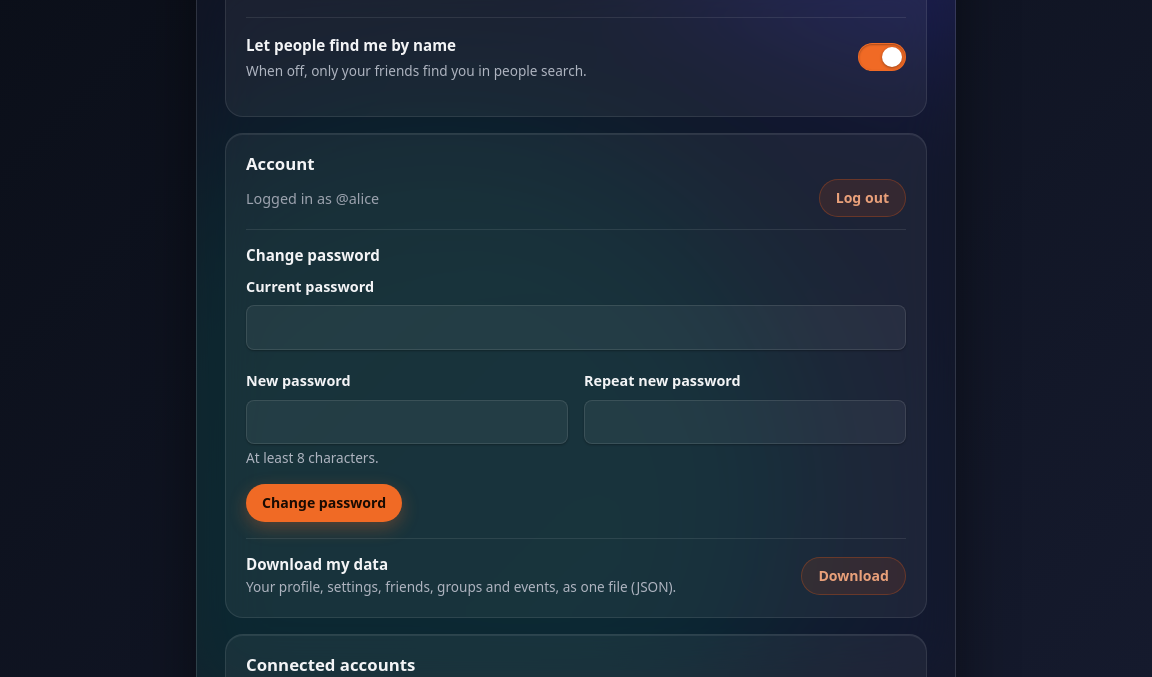
Test case: a wrong current password shows the server reason
(page scrolled)
In the password field labelled "Current password": (576, 328) [246,305,906,350], type "nope"
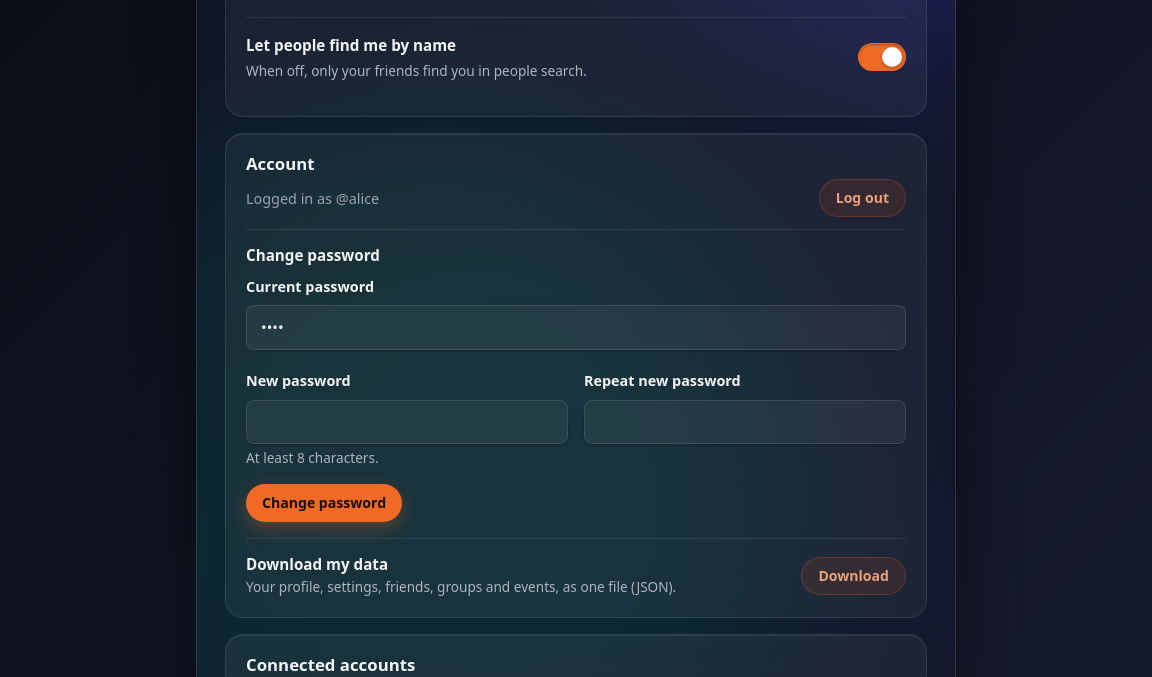
In the password field labelled "New password": (407, 422) [246,400,568,444], type "new-password-1"
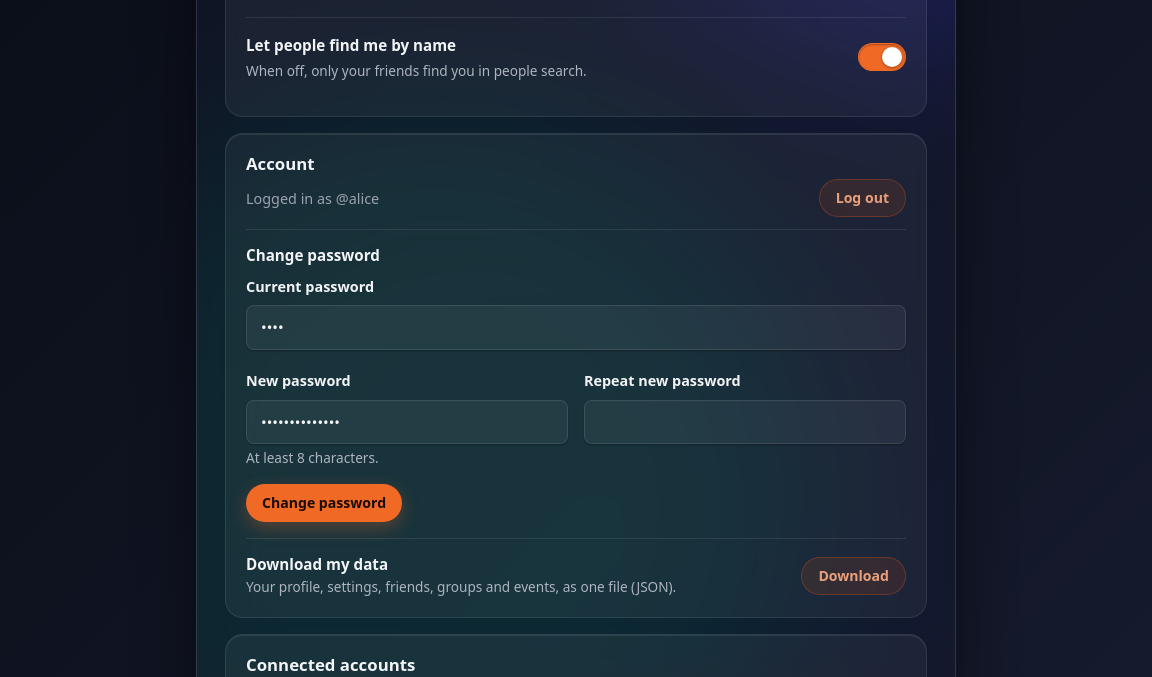
In the password field labelled "Repeat new password": (745, 422) [584,400,906,444], type "new-password-1"
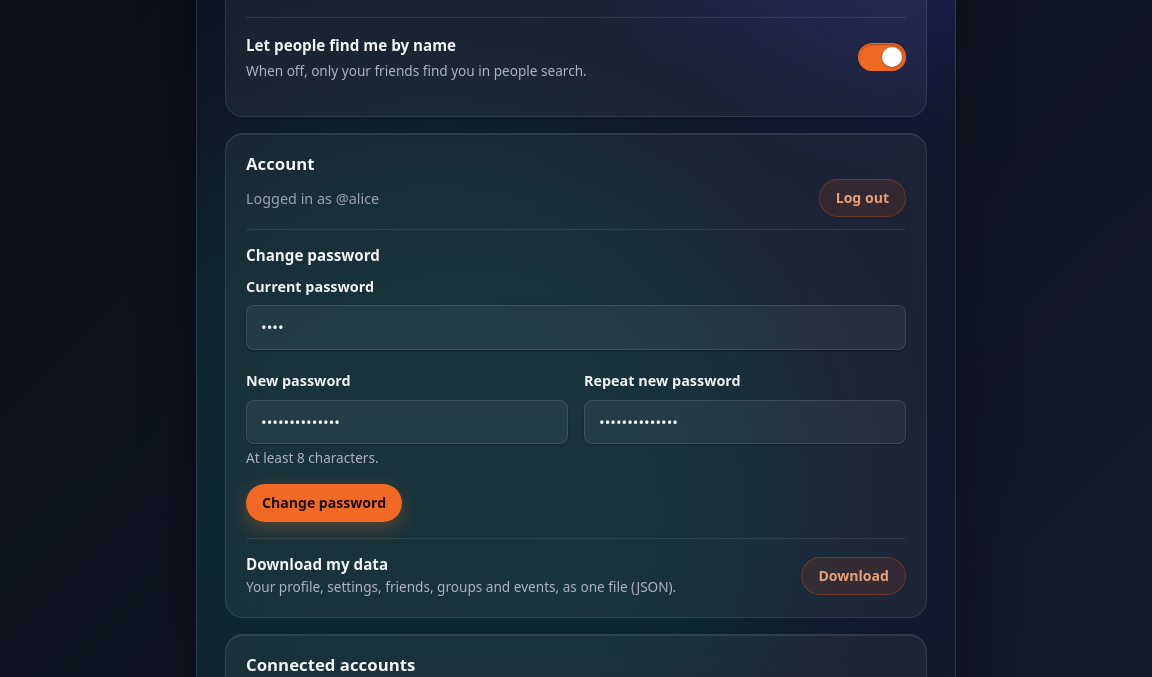
Click the button "Change password": click(324, 503) [246,484,402,522]
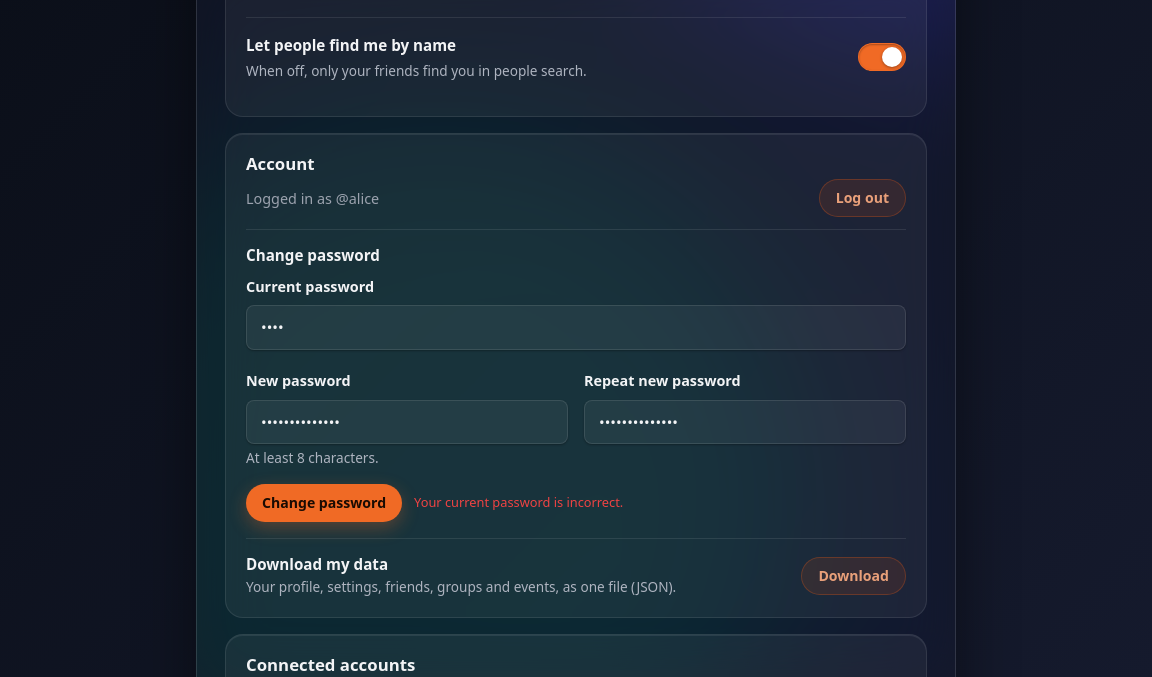
Expected: the message reads "Your current password is incorrect.", [414,493,623,511]
